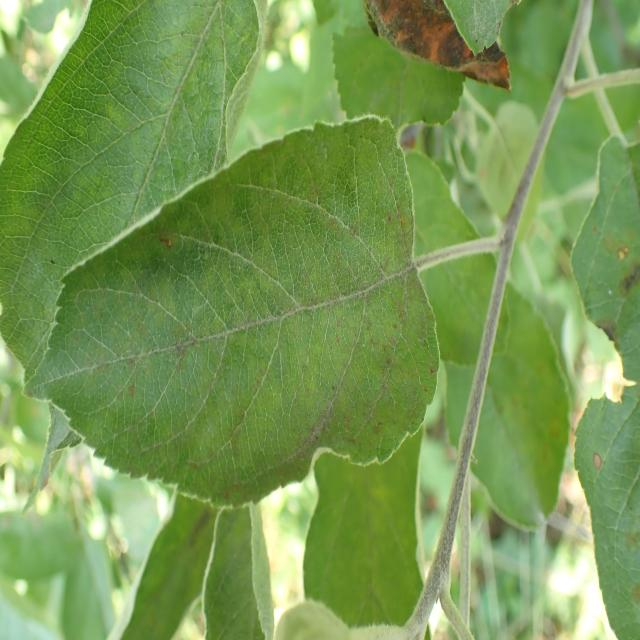scab: (59, 158, 464, 481)
